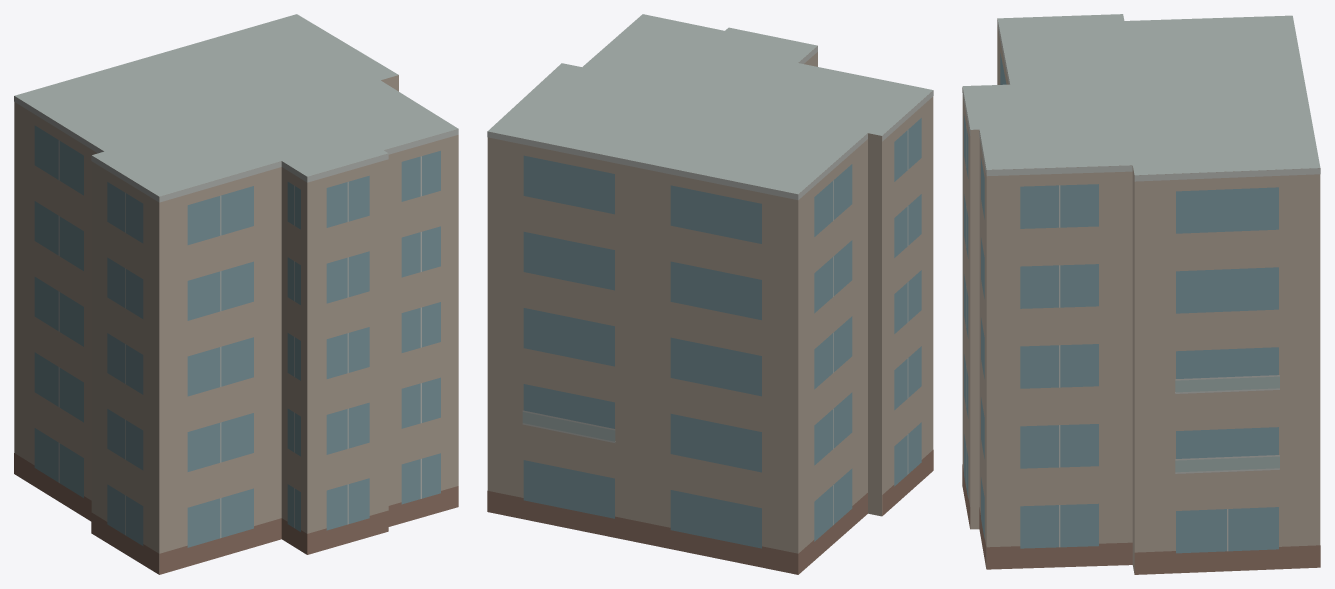
The model's file is survey-upis-32577732.glb.
The picture shows the model from 3 angles, left to right: view 1: azimuth 30°, elevation 25°; view 2: azimuth 150°, elevation 25°; view 3: azimuth 270°, elevation 25°; orthographic projection. The views are drawn at different scales.
Visible parts, largest first — view 1: survey-upis-32577732.tmp; view 2: survey-upis-32577732.tmp; view 3: survey-upis-32577732.tmp.
Part boxes in pixels (bbox=[...]): survey-upis-32577732.tmp: bbox=[14, 14, 458, 574]; survey-upis-32577732.tmp: bbox=[487, 14, 933, 574]; survey-upis-32577732.tmp: bbox=[962, 14, 1320, 574].
Size of the model in its own units: 13.56 by 15.65 by 12.72.
